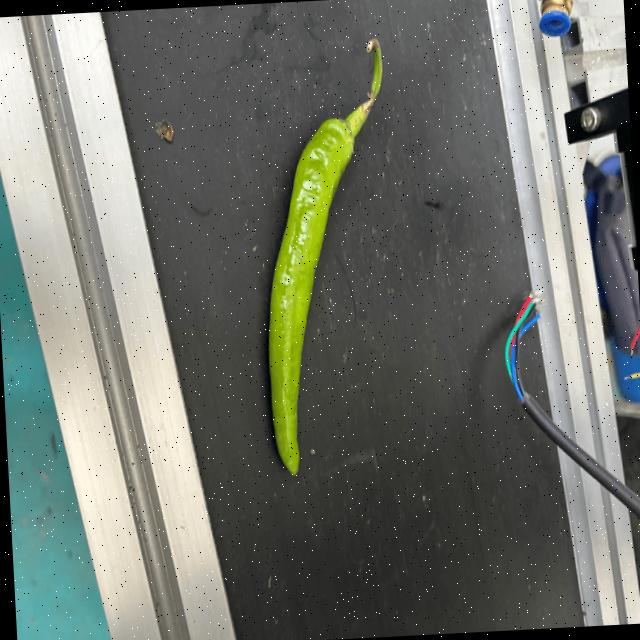chili: (267, 114, 357, 479)
